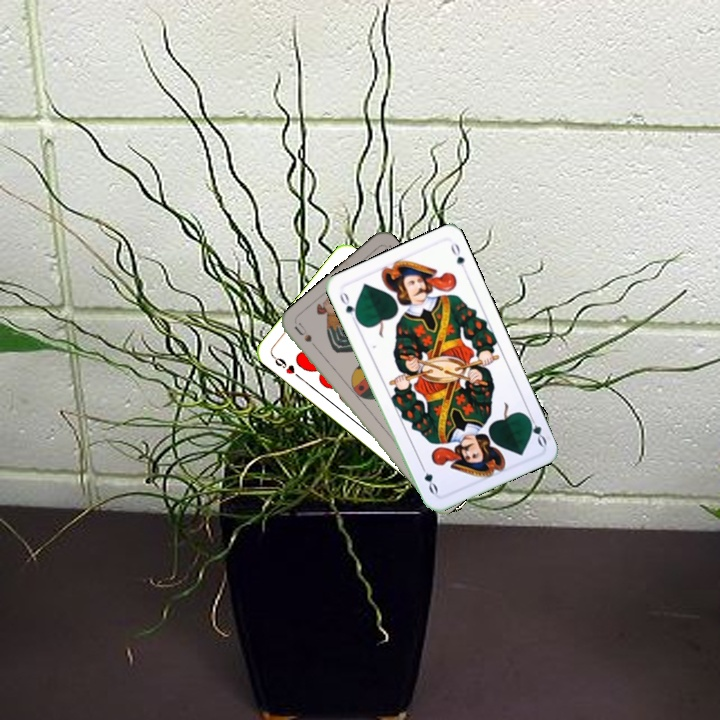GO: (522, 410, 550, 449), (335, 287, 362, 324)
H9: (268, 352, 303, 381)
SU: (290, 319, 323, 355)
